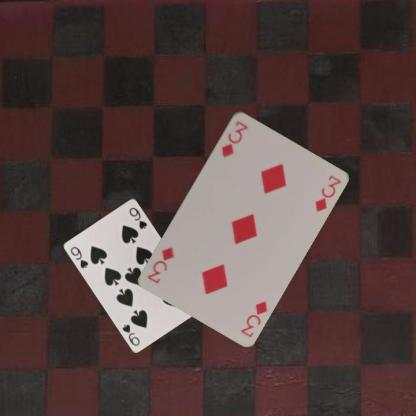3d: (218, 118, 250, 159), (238, 298, 269, 338)
9s: (68, 244, 90, 270)
